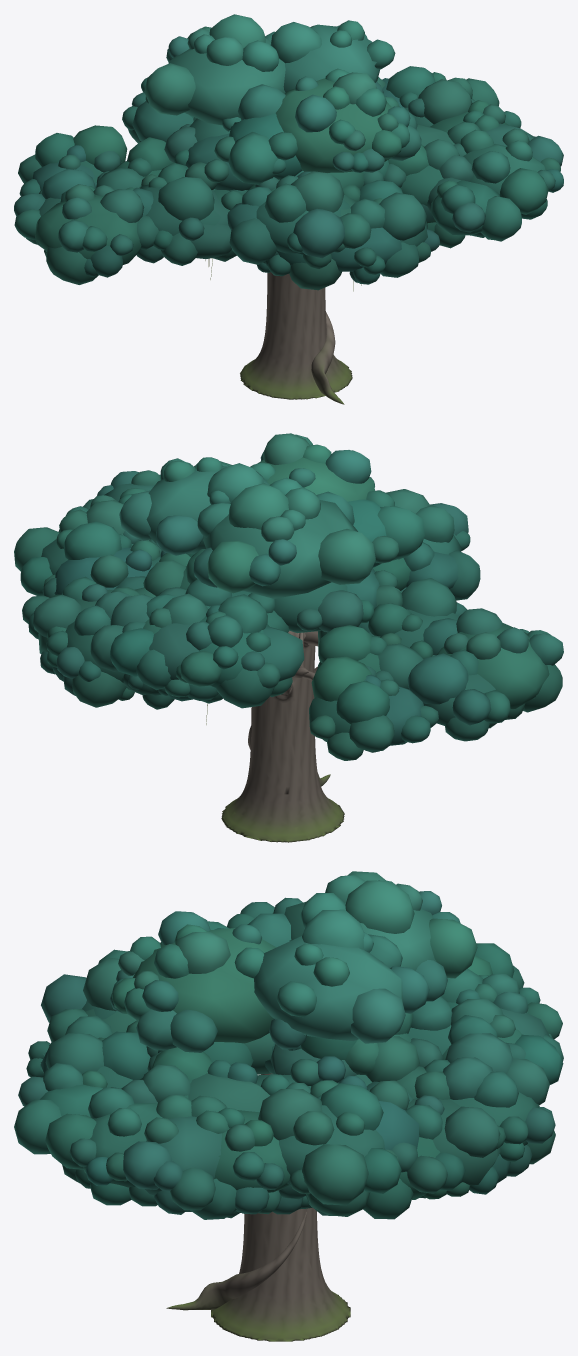
File: arvore-mae-liso-leve.glb
3 renders of one model, top to bottom at view 1: azimuth 30°, elevation 25°; view 2: azimuth 150°, elevation 25°; view 3: azimuth 270°, elevation 25°, orthographic. The views are drawn at different scales.
Parts seen in each view (by area): view 1: copa_mae, TRONCO_MAE_RAIZ; view 2: copa_mae, TRONCO_MAE_RAIZ; view 3: copa_mae, TRONCO_MAE_RAIZ.
Part boxes in pixels (<box>): copa_mae: <box>14,14,563,290</box>; TRONCO_MAE_RAIZ: <box>205,258,361,404</box>; copa_mae: <box>14,433,563,760</box>; TRONCO_MAE_RAIZ: <box>206,630,344,842</box>; copa_mae: <box>14,871,563,1219</box>; TRONCO_MAE_RAIZ: <box>166,1073,350,1341</box>.
Size of the model in its own units: 69.62 by 47.66 by 56.73.
